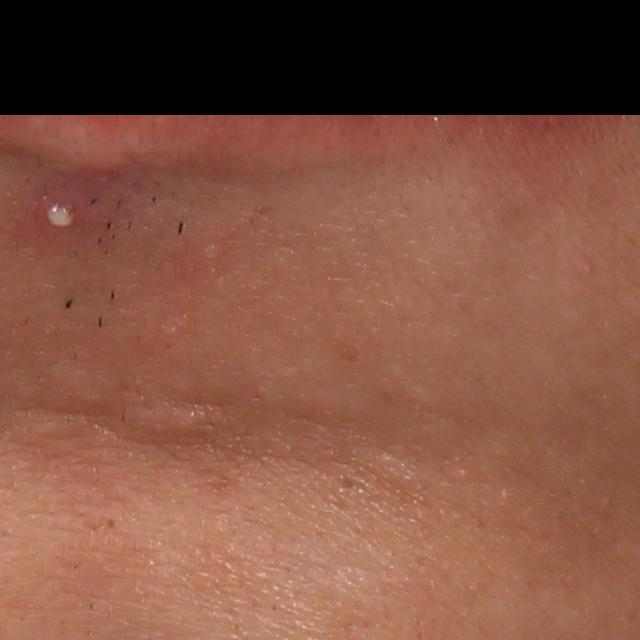hypertrophic_scar: (116, 390, 228, 437)
pustule: (34, 188, 87, 242)
